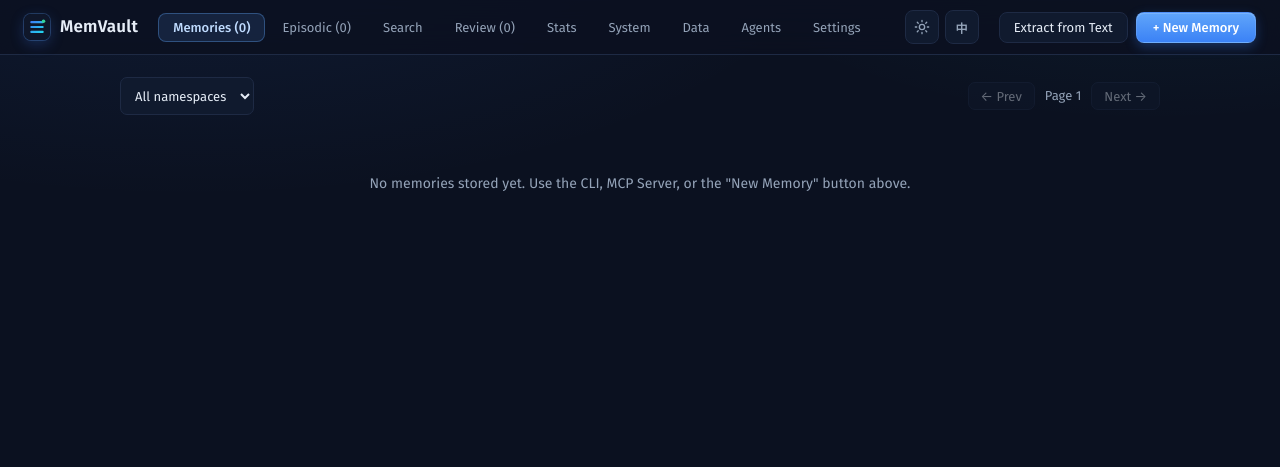
Test: Episodic tab › shows an empty state when no outcomes are recorded
The width and height of the screenshot is (1280, 467).
Expected: the text "No memories stored yet" is shown, [370,175,910,192]
Step 1. Click the button "Episodic (0)" → (317, 27), box [267,12,366,42]
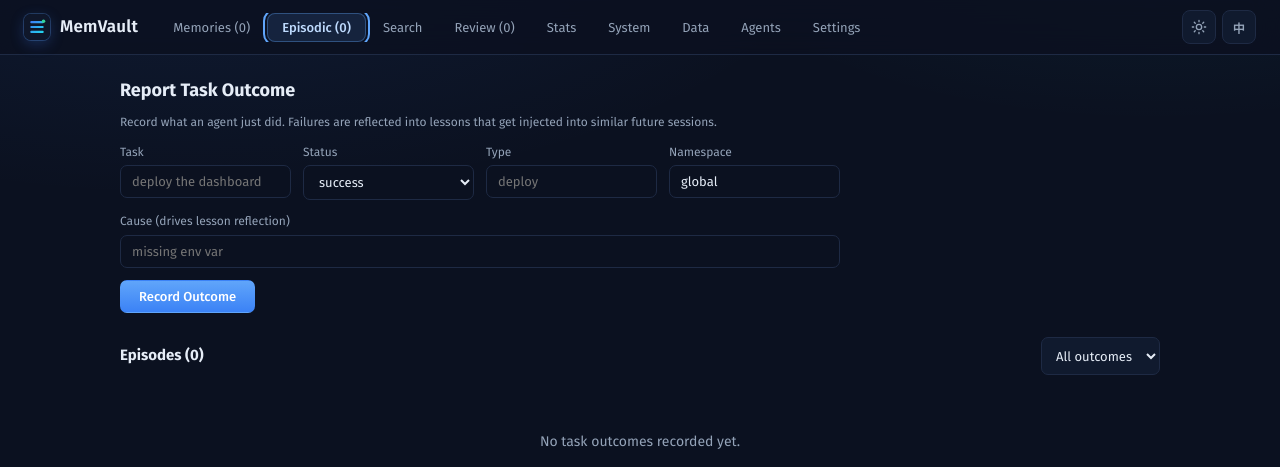
Expected: the text "No task outcomes recorded yet." is shown, [540,433,740,450]
